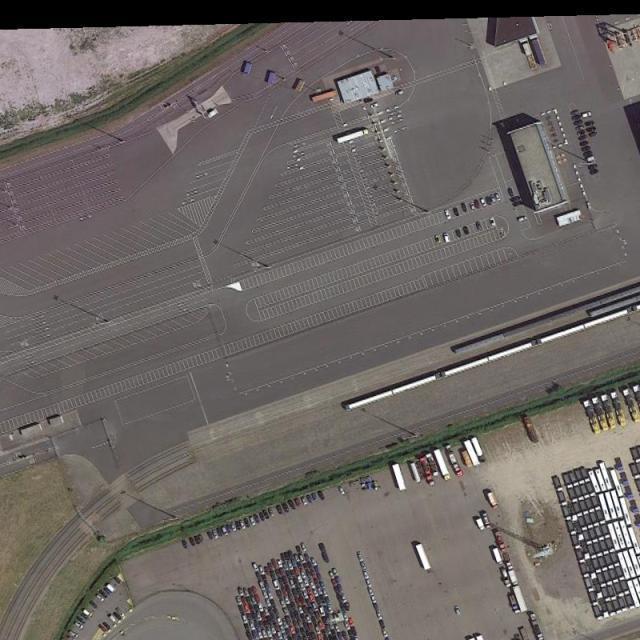vehicle: (460, 435, 481, 467), (415, 542, 435, 575), (591, 395, 609, 431), (434, 448, 453, 481), (623, 388, 640, 424), (583, 400, 601, 434), (526, 611, 546, 640), (425, 448, 442, 482), (446, 445, 464, 476), (611, 391, 626, 426), (601, 393, 615, 428), (522, 416, 538, 445), (419, 457, 435, 486), (392, 462, 406, 494), (409, 459, 425, 486), (459, 448, 476, 471), (471, 436, 486, 462), (490, 544, 505, 564), (494, 527, 506, 552), (516, 622, 532, 640), (498, 567, 510, 588), (486, 490, 498, 510), (474, 514, 487, 532), (508, 594, 519, 614), (503, 552, 514, 571), (482, 512, 491, 529), (105, 582, 116, 594), (304, 493, 314, 506), (443, 207, 453, 220), (115, 607, 126, 618), (274, 503, 284, 515), (316, 490, 326, 502), (220, 525, 230, 537), (306, 587, 314, 602), (451, 206, 461, 218), (112, 611, 122, 622), (286, 500, 297, 510), (82, 608, 93, 618), (102, 586, 113, 596), (248, 514, 257, 526), (300, 494, 309, 506), (310, 492, 319, 504), (238, 518, 247, 530), (187, 535, 196, 547), (364, 577, 373, 589), (434, 234, 443, 246), (267, 506, 275, 519), (571, 114, 584, 122), (102, 621, 112, 631), (476, 630, 486, 640), (242, 517, 251, 528), (252, 512, 261, 523), (281, 502, 289, 514), (258, 510, 266, 522), (211, 528, 219, 540), (310, 555, 318, 567), (254, 621, 262, 633), (310, 616, 318, 628), (443, 233, 451, 245), (516, 215, 528, 223), (578, 134, 590, 142), (578, 139, 590, 147), (587, 162, 599, 170), (459, 202, 467, 214), (465, 633, 478, 640), (109, 614, 118, 624), (97, 624, 106, 634), (80, 612, 90, 621), (90, 600, 99, 610), (98, 589, 108, 598), (262, 509, 270, 520), (338, 484, 346, 495), (234, 519, 242, 530), (230, 522, 238, 533), (225, 523, 233, 534), (94, 594, 105, 602), (206, 530, 214, 541), (322, 551, 330, 562), (290, 557, 298, 568), (244, 595, 252, 606), (276, 575, 284, 586), (324, 626, 332, 637), (570, 109, 581, 117), (573, 118, 584, 126), (370, 594, 378, 605), (320, 607, 328, 618), (454, 229, 462, 240), (506, 187, 514, 198), (581, 145, 592, 153), (494, 191, 502, 202), (192, 534, 199, 546), (216, 526, 223, 538), (260, 610, 267, 622), (357, 550, 364, 562), (280, 585, 287, 597), (283, 594, 290, 606), (299, 594, 306, 606), (476, 221, 483, 233), (512, 200, 524, 207), (473, 198, 480, 210), (74, 622, 84, 630), (76, 615, 86, 623), (294, 498, 302, 508), (198, 534, 206, 544), (266, 590, 274, 600), (250, 612, 258, 622), (371, 102, 381, 110), (362, 569, 370, 579), (302, 622, 310, 632), (284, 616, 292, 626), (292, 578, 300, 588), (326, 605, 334, 615), (510, 195, 520, 203), (584, 150, 594, 158), (235, 595, 242, 606), (241, 613, 248, 624), (270, 570, 277, 581), (273, 579, 280, 590), (298, 554, 305, 565), (342, 611, 349, 622), (259, 580, 266, 591), (250, 594, 257, 605), (242, 586, 249, 597), (258, 564, 265, 575), (329, 624, 336, 635), (378, 619, 385, 630), (309, 580, 316, 591), (462, 225, 469, 236), (69, 630, 78, 638), (242, 622, 250, 631), (333, 623, 341, 632), (381, 629, 389, 638), (362, 96, 374, 102), (358, 561, 366, 570), (310, 570, 318, 579), (298, 582, 306, 591), (252, 561, 259, 571), (267, 561, 274, 571), (276, 630, 283, 640), (348, 617, 355, 627), (344, 621, 351, 631), (254, 594, 261, 604), (253, 604, 260, 614), (246, 630, 253, 640), (263, 606, 270, 616), (263, 620, 270, 630), (270, 624, 277, 634), (454, 605, 461, 615), (582, 111, 592, 118), (367, 587, 374, 597), (307, 622, 314, 632), (313, 579, 320, 589), (294, 597, 301, 607), (295, 586, 302, 596), (324, 595, 331, 605), (322, 616, 329, 626), (479, 198, 486, 208), (182, 538, 188, 549), (282, 560, 288, 571), (287, 559, 293, 570), (256, 611, 262, 622), (376, 611, 382, 622), (284, 583, 290, 594), (318, 619, 324, 630), (288, 592, 294, 603), (318, 595, 326, 603), (271, 558, 278, 567), (319, 542, 326, 551), (270, 598, 277, 607), (278, 566, 285, 575), (275, 589, 282, 598), (279, 598, 286, 607), (303, 553, 310, 562), (339, 603, 346, 612), (251, 630, 258, 639), (247, 586, 254, 595), (251, 585, 258, 594), (254, 571, 261, 580), (262, 629, 269, 638), (309, 631, 316, 640), (395, 90, 404, 97), (299, 570, 306, 579), (306, 561, 313, 570), (289, 625, 296, 634), (302, 606, 309, 615), (303, 578, 310, 587), (302, 590, 309, 599), (314, 597, 321, 606), (590, 168, 599, 175), (238, 604, 244, 614), (332, 567, 338, 577), (280, 552, 286, 562), (342, 593, 348, 603), (352, 627, 358, 637), (248, 604, 254, 614), (258, 602, 264, 612), (250, 620, 256, 630), (244, 603, 250, 613), (238, 586, 244, 596), (264, 566, 270, 576), (259, 621, 265, 631), (282, 574, 288, 584), (282, 618, 288, 628), (336, 630, 342, 640), (575, 124, 585, 130), (284, 570, 290, 580), (305, 569, 311, 579), (285, 627, 291, 637), (289, 579, 295, 589), (314, 611, 320, 621), (306, 598, 312, 608), (576, 130, 586, 136), (485, 196, 491, 206), (490, 194, 496, 204), (295, 546, 302, 554), (282, 607, 289, 615), (274, 568, 281, 576), (314, 566, 321, 574), (306, 632, 313, 640), (314, 627, 321, 635), (319, 581, 326, 589), (291, 589, 298, 597), (490, 216, 495, 227), (284, 551, 290, 560), (273, 607, 279, 616), (277, 616, 283, 625), (274, 622, 280, 631), (331, 578, 337, 587), (337, 594, 343, 603), (266, 616, 272, 625), (262, 574, 268, 583), (266, 628, 272, 637), (342, 631, 348, 640), (300, 614, 306, 623), (294, 627, 300, 636), (312, 589, 318, 598), (312, 602, 318, 611), (469, 202, 475, 211), (301, 542, 306, 552), (294, 568, 299, 578), (584, 122, 594, 127), (588, 132, 598, 137), (288, 550, 294, 558), (262, 591, 268, 599), (265, 598, 271, 606), (267, 606, 273, 614), (270, 614, 276, 622), (328, 570, 334, 578), (336, 576, 342, 584), (348, 630, 354, 638), (246, 613, 252, 621), (321, 629, 327, 637), (373, 603, 379, 611), (322, 589, 328, 597), (298, 606, 304, 614), (308, 607, 314, 615), (292, 621, 298, 629), (277, 559, 282, 568), (241, 596, 246, 605), (294, 610, 299, 619), (272, 633, 278, 640), (299, 627, 305, 634), (290, 634, 297, 640), (305, 616, 311, 623), (297, 575, 303, 582), (281, 626, 286, 634), (294, 554, 299, 562), (334, 586, 339, 594), (338, 584, 343, 592), (265, 582, 270, 590), (258, 631, 263, 639), (586, 127, 596, 131), (290, 570, 295, 578), (303, 562, 308, 570), (298, 619, 303, 627), (318, 587, 323, 595), (65, 636, 74, 640), (346, 602, 350, 611), (300, 634, 306, 640), (317, 634, 323, 640), (290, 611, 294, 620), (287, 605, 291, 613), (291, 602, 295, 610), (269, 634, 274, 640), (317, 574, 322, 580), (329, 634, 334, 640), (384, 635, 390, 640), (282, 633, 286, 640), (297, 635, 302, 640), (264, 636, 269, 640), (323, 636, 328, 640), (350, 636, 354, 640), (287, 636, 291, 640), (354, 637, 359, 640)
